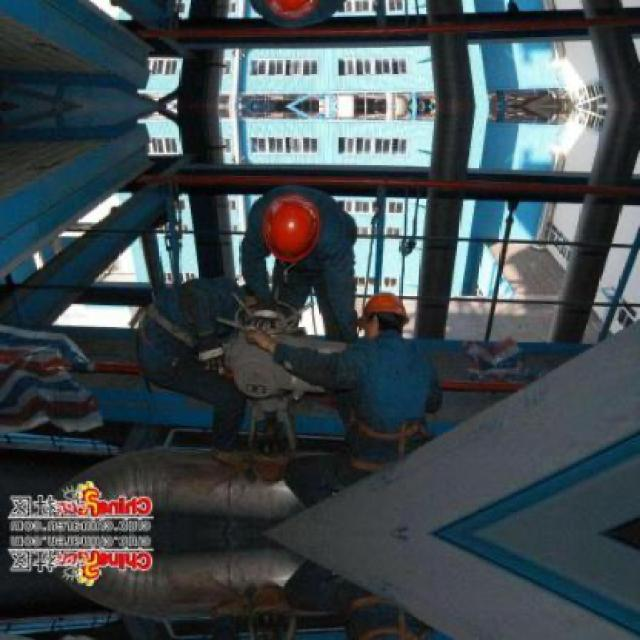con casco: (251, 138, 384, 276), (380, 284, 462, 361), (204, 292, 289, 360)
